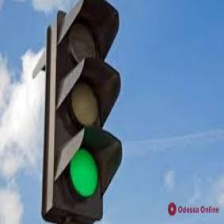semaforo: (46, 1, 122, 221)
